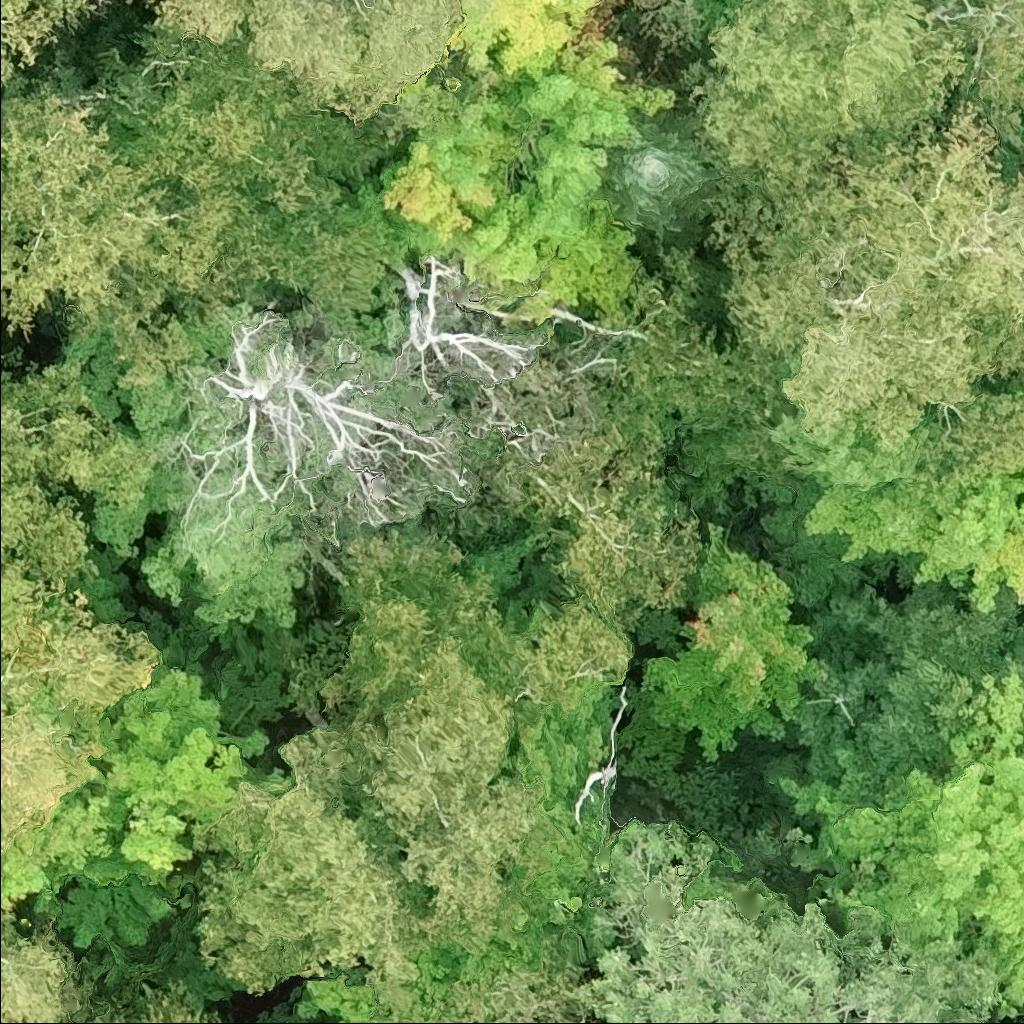crown: (700, 98, 1023, 485), (0, 652, 296, 954), (96, 26, 395, 322), (775, 668, 1023, 1023), (566, 825, 1004, 1023), (313, 590, 545, 955), (333, 49, 682, 285), (59, 325, 312, 642), (0, 83, 246, 388), (186, 722, 435, 1014), (178, 300, 475, 543), (410, 688, 618, 1014), (332, 525, 636, 733), (0, 523, 163, 859), (681, 0, 967, 189), (768, 410, 1023, 612), (781, 579, 1023, 783), (637, 520, 825, 768), (123, 0, 461, 127), (514, 414, 707, 635), (0, 341, 140, 576), (378, 257, 549, 402), (599, 108, 744, 252), (443, 0, 628, 92), (377, 948, 596, 1023), (923, 0, 1023, 152), (0, 905, 97, 1023), (0, 0, 101, 85), (82, 974, 223, 1023), (1022, 386, 1023, 391), (1022, 471, 1023, 474)
